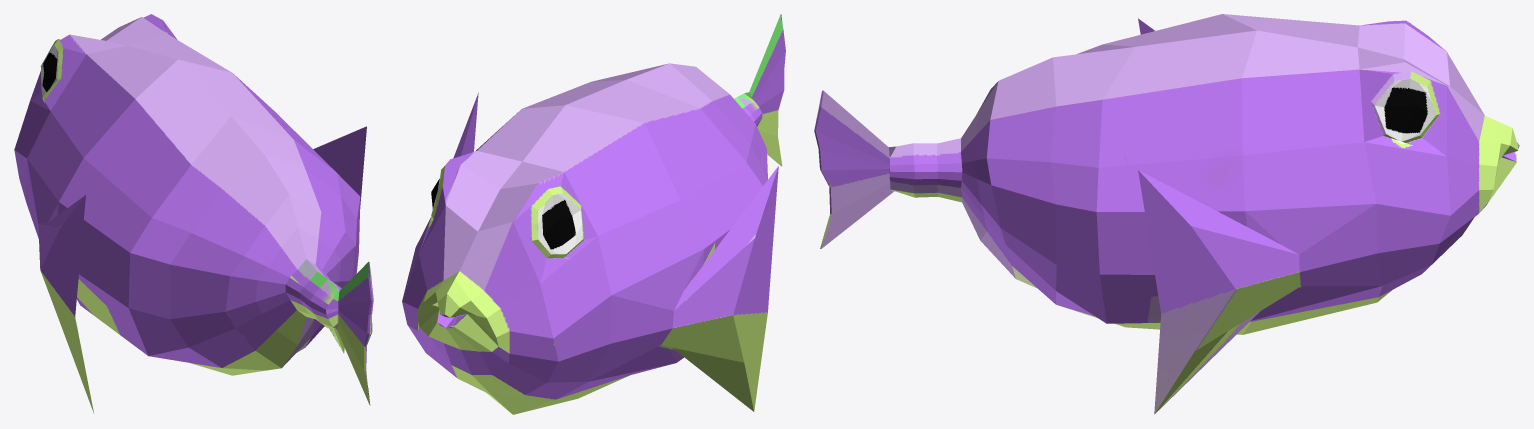
Rendered from pufferfishPurple.gltf.
3 views of the same model, side by side, from view 1: azimuth 30°, elevation 25°; view 2: azimuth 150°, elevation 25°; view 3: azimuth 270°, elevation 25° (orthographic). The views are drawn at different scales.
Parts seen in each view (by area): view 1: Cylinder; view 2: Cylinder; view 3: Cylinder.
Boxes of the visible parts, left/top/right/bottom form: Cylinder: left=14, top=14, right=373, bottom=412; Cylinder: left=402, top=14, right=785, bottom=414; Cylinder: left=814, top=14, right=1519, bottom=414.
Bounding box in the file's own units: 1.69 × 1.64 × 3.28.
1 material, 1 textured.
